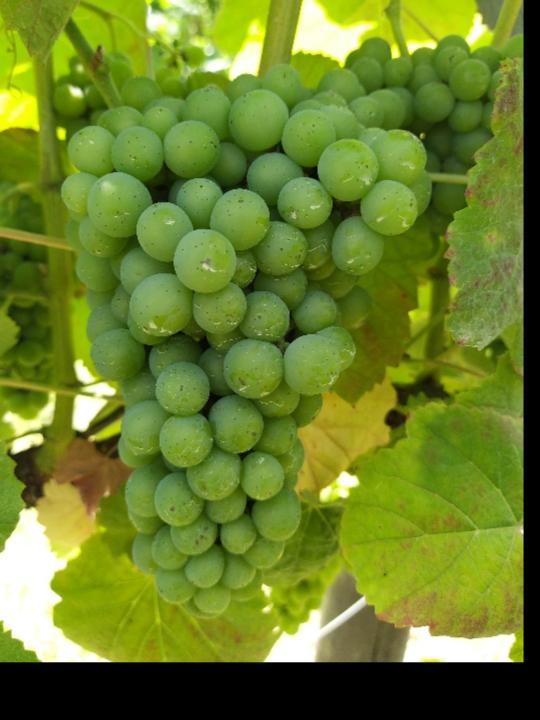grape: (60, 83, 435, 617)
